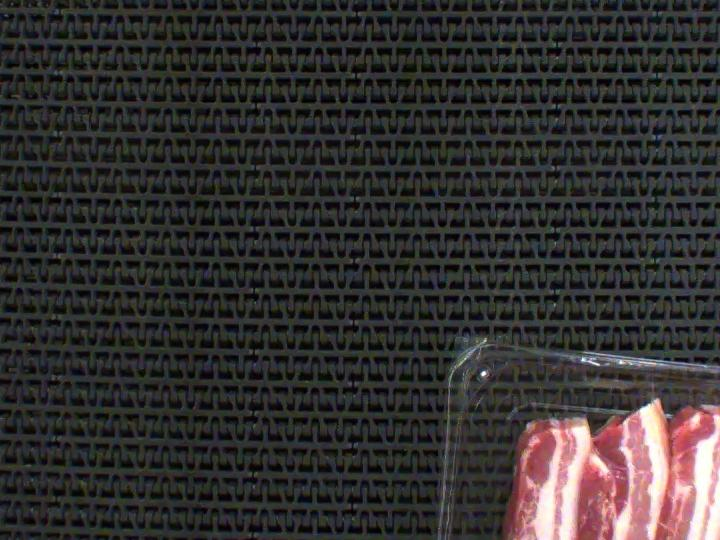packaging-error: (642, 376, 663, 407)
